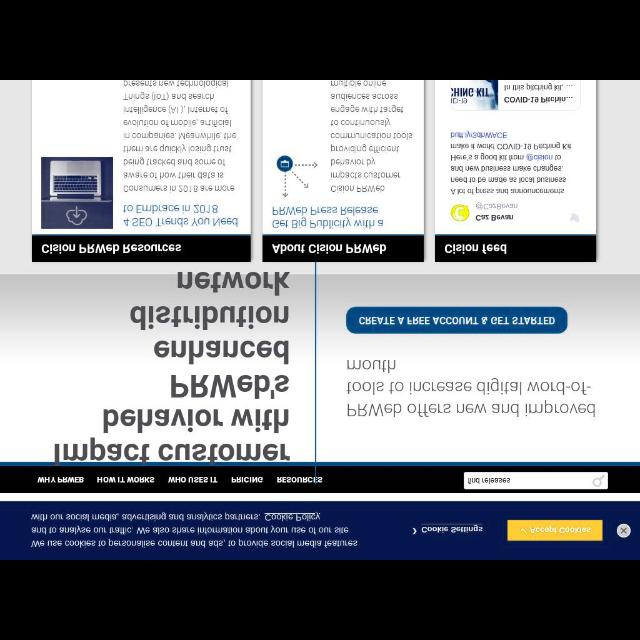backgroundimage: (1, 274, 640, 464)
button: (616, 523, 630, 537)
icon: (592, 474, 606, 486), (568, 211, 580, 223), (620, 526, 628, 534), (520, 527, 528, 535), (412, 528, 418, 534)
image: (41, 158, 113, 230), (276, 155, 318, 199), (451, 82, 499, 110), (450, 203, 470, 221)
input: (464, 472, 608, 490)
panel: (1, 502, 639, 560)
text: (54, 270, 290, 466), (346, 357, 598, 419), (28, 510, 360, 550), (122, 81, 238, 195), (331, 81, 414, 193), (450, 130, 572, 197), (270, 204, 386, 230), (123, 202, 239, 228), (41, 242, 183, 256), (359, 316, 555, 326), (271, 243, 387, 255), (443, 242, 507, 255), (504, 82, 576, 92), (420, 524, 486, 534), (505, 96, 577, 104), (94, 476, 156, 484), (530, 526, 590, 534), (476, 202, 518, 212), (166, 476, 218, 484), (36, 476, 84, 484), (276, 476, 322, 484), (468, 476, 510, 484), (475, 214, 513, 222), (230, 475, 264, 483)
textbutton: (347, 305, 568, 335), (508, 520, 602, 542)
toolbar: (1, 466, 640, 494)
